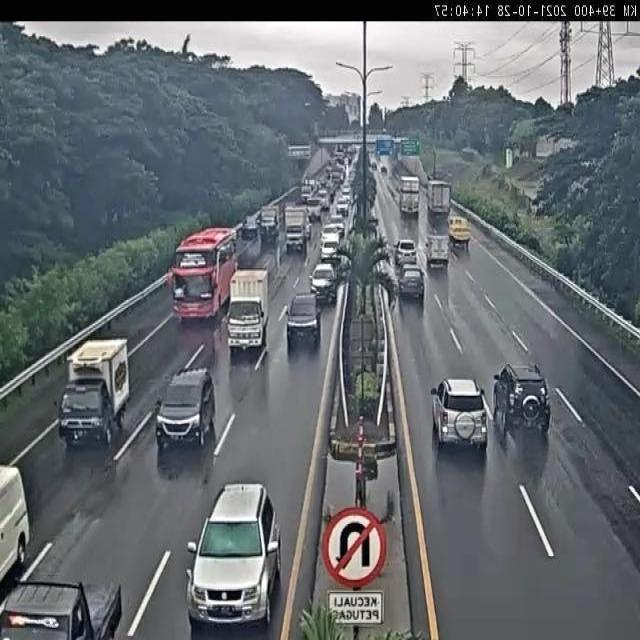Car: (194, 477, 272, 627), (429, 372, 498, 453), (155, 367, 216, 451), (505, 368, 549, 423), (284, 292, 321, 353), (309, 264, 338, 304), (397, 264, 424, 301), (394, 239, 418, 266), (320, 233, 341, 260), (326, 218, 345, 240), (307, 199, 323, 222), (300, 185, 312, 204)
Truck: (58, 338, 130, 448), (170, 226, 239, 321), (223, 263, 268, 359), (283, 204, 309, 253), (427, 179, 452, 220), (398, 175, 421, 217), (426, 234, 450, 271), (448, 216, 471, 247)
